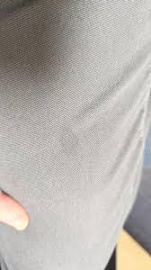oil: (52, 123, 79, 158)
